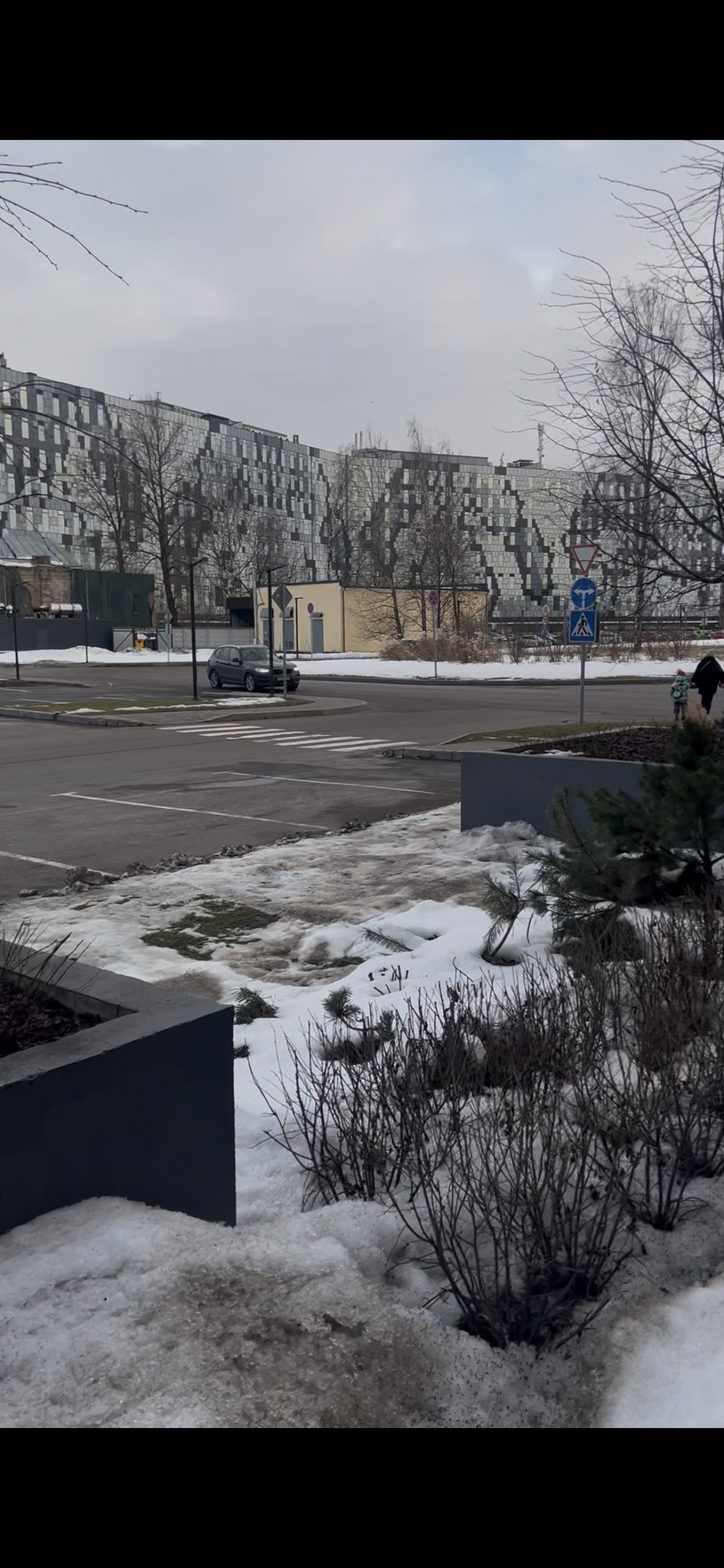road sign: (569, 545, 601, 575), (569, 610, 598, 642)
